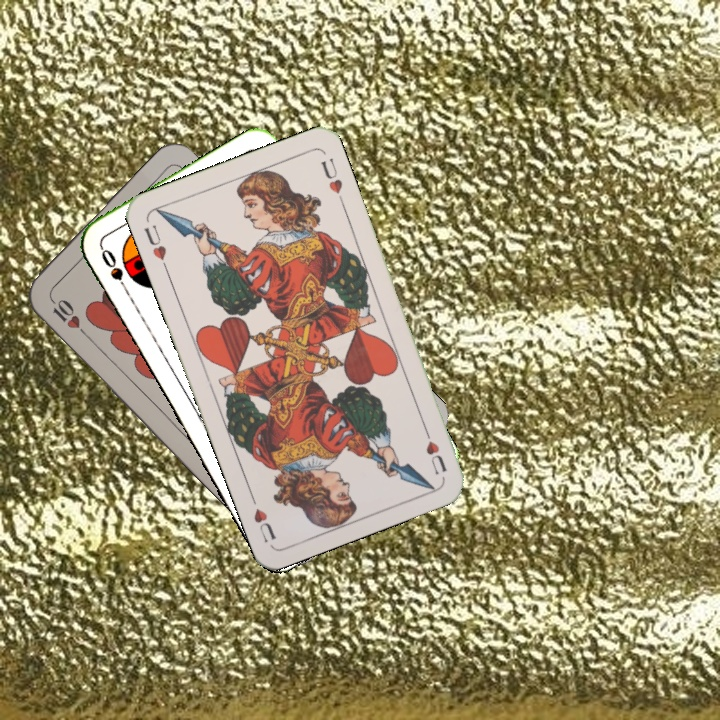H10: (45, 293, 91, 340)
HU: (419, 422, 450, 478), (140, 220, 171, 274)
SO: (97, 243, 132, 298)
